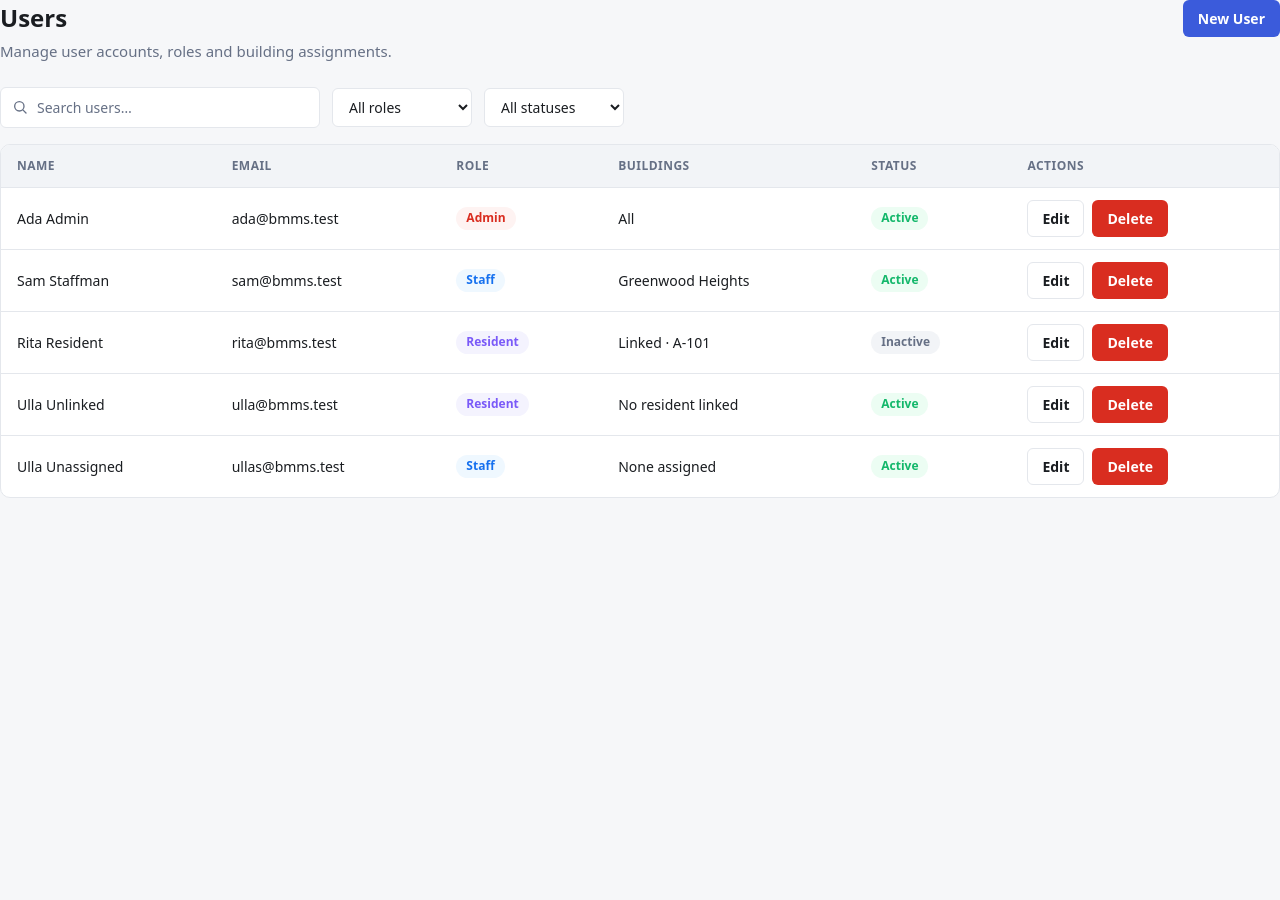
Test: UsersPage admin user management › shows client-side validation errors before submitting
The width and height of the screenshot is (1280, 900).
Expected: the text "Ada Admin" is shown, [1,187,216,249]
Click the button "New User": point(1231, 18) [1183,0,1279,37]
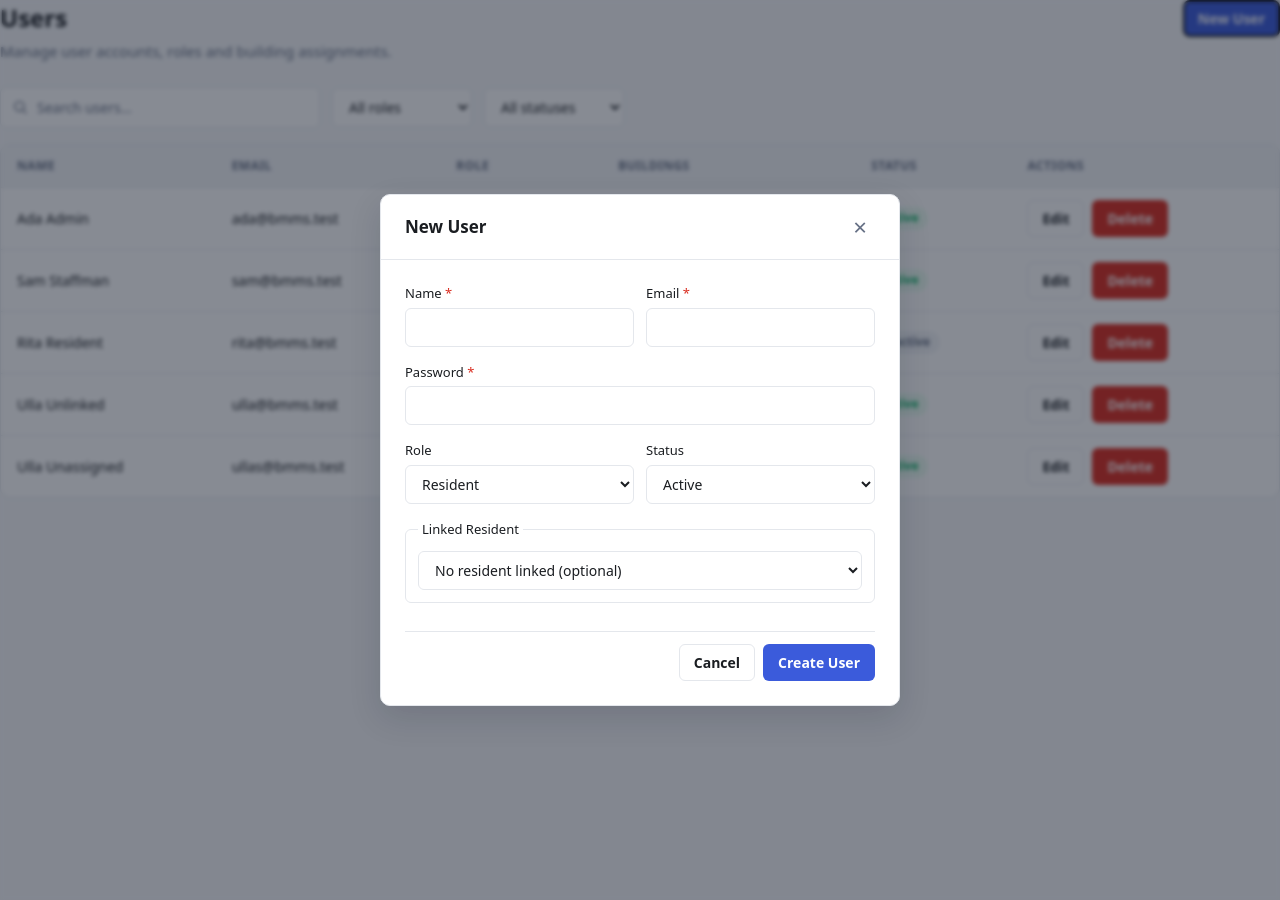
Click the button "Create User": point(819, 662) [763,644,875,681]
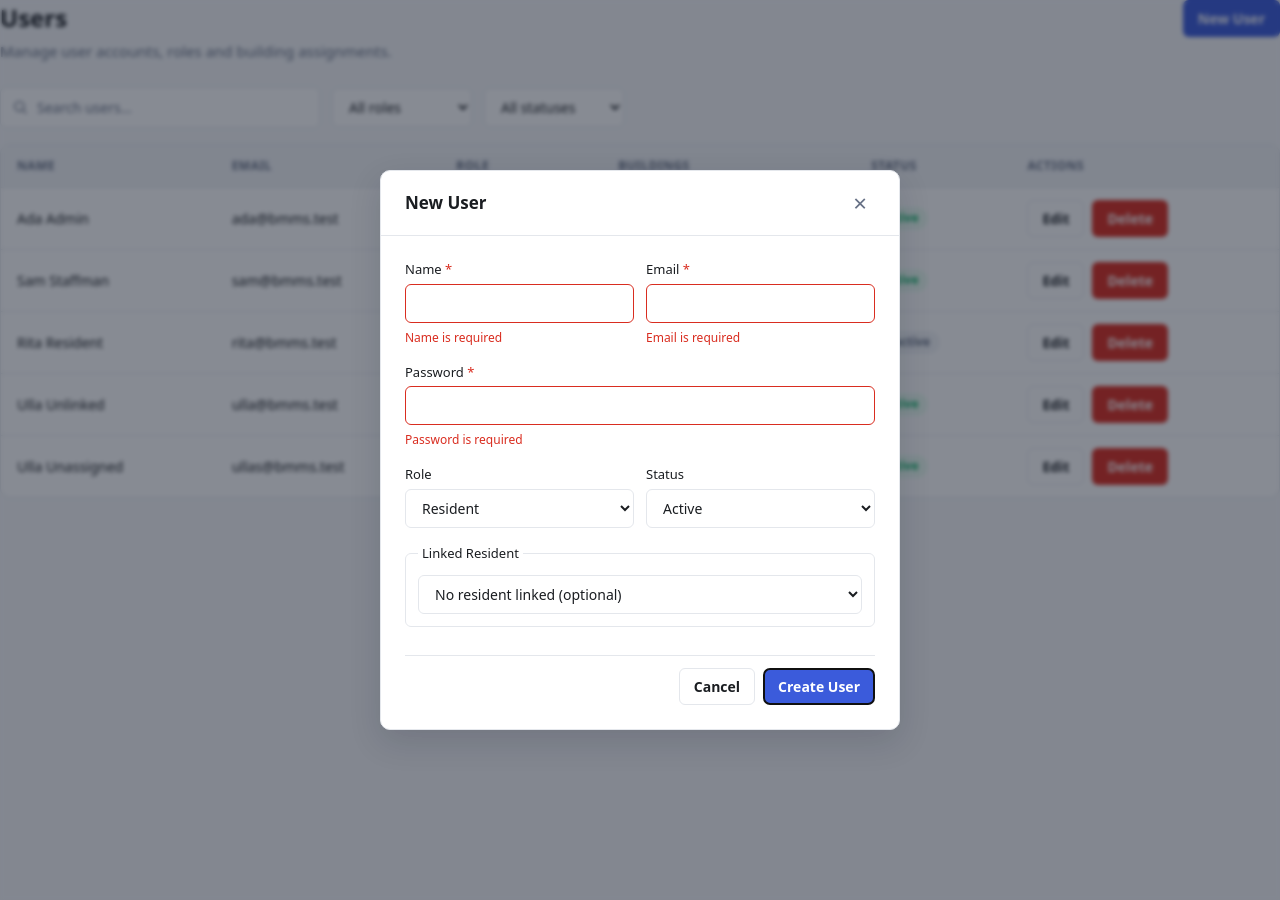
Now the text "Name is required" is shown, box [405,328,502,346]
Now the text "Email is required" is shown, box [646,328,740,346]
Now the text "Password is required" is shown, box [405,431,523,448]
